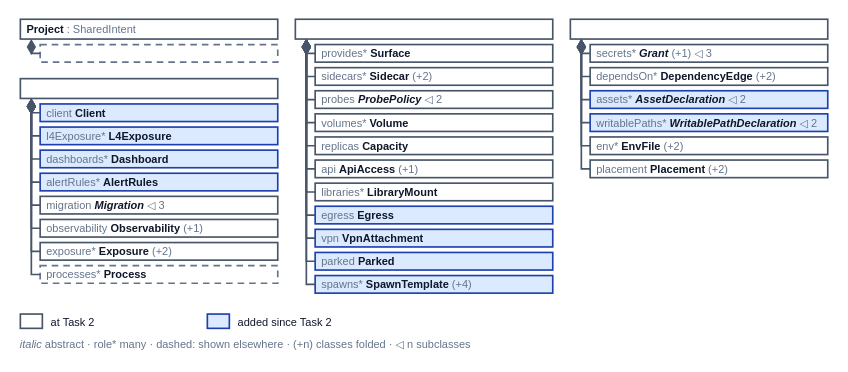
This 848x372 diagram has some shape labels left out. The centre of each missing label's shape, as x and y in pixels:
"Application : SharedIntent" belongs at point 148,88.
"applications* Application" belongs at point 158,52.
"Process : SharedIntent" belongs at point 423,28.
"SharedIntent ◁ 3" belongs at point 698,28.
